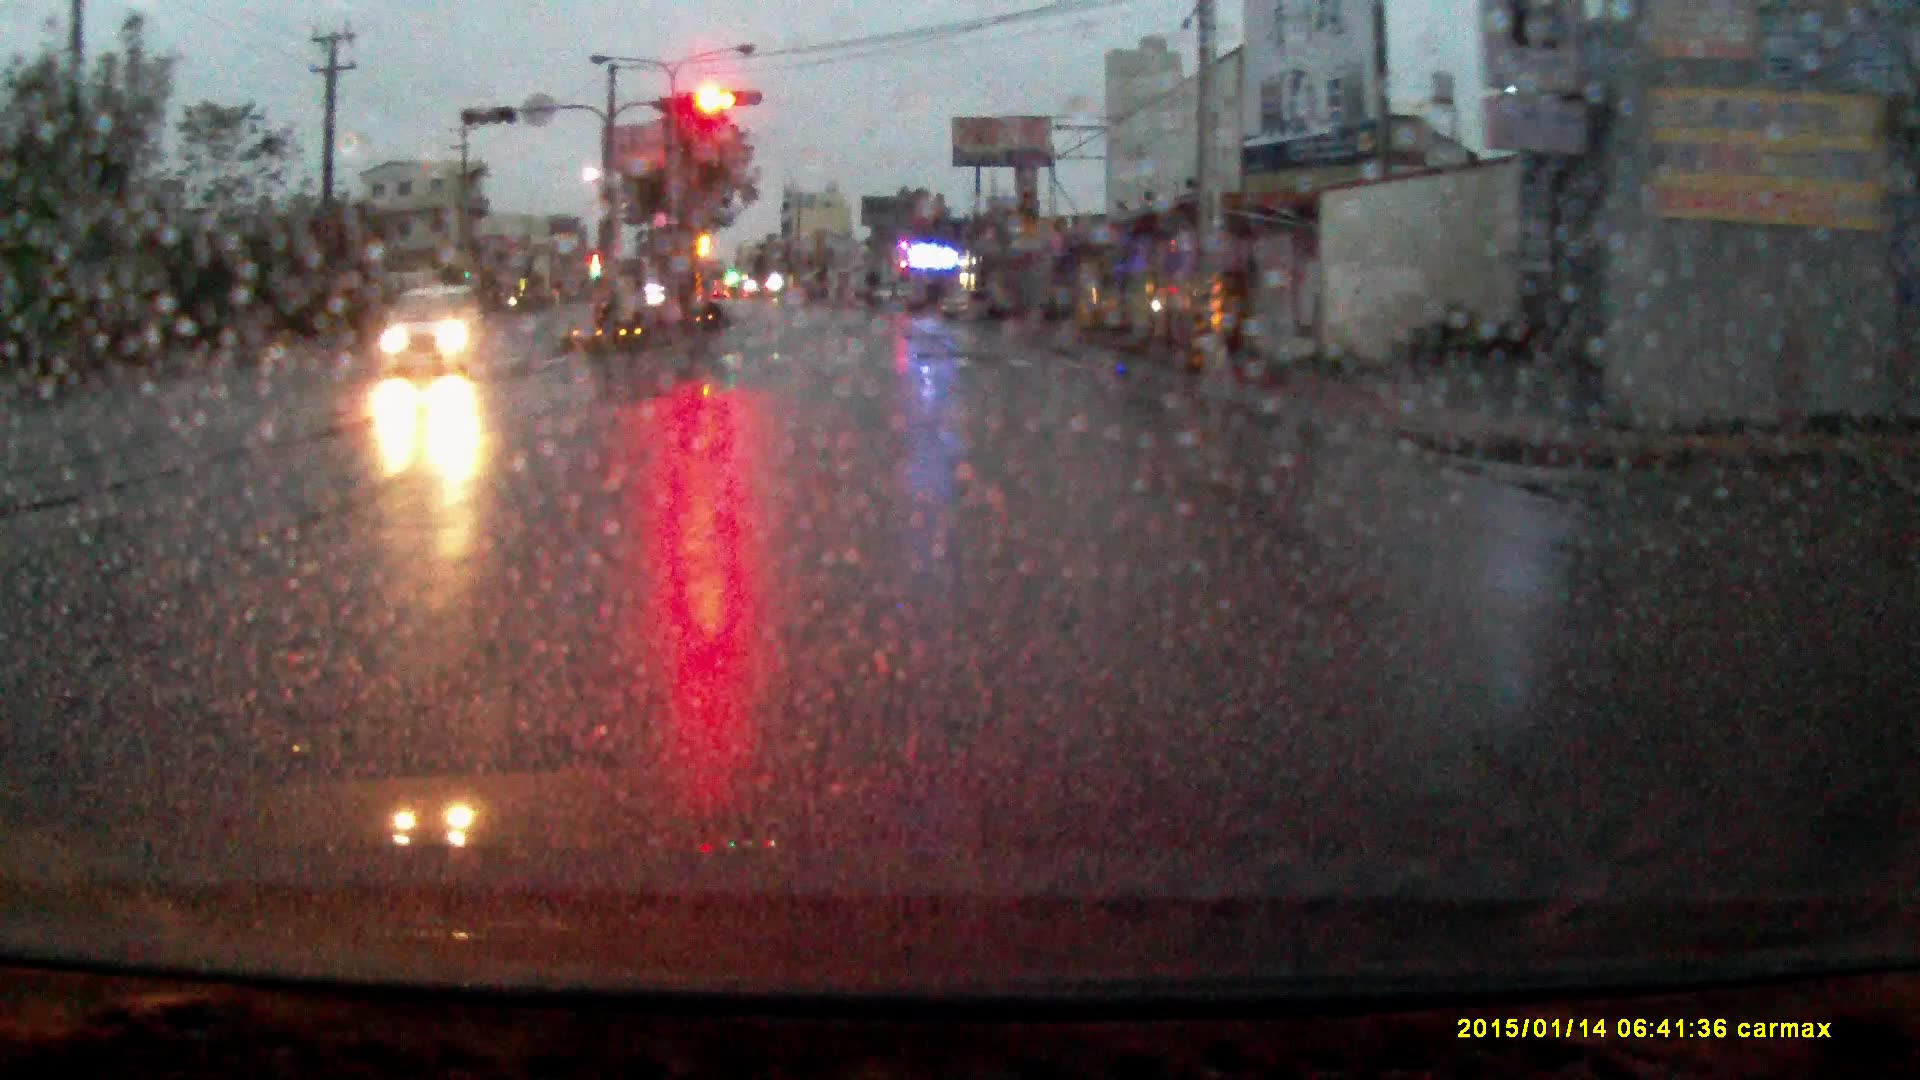vehicle: (382, 286, 488, 375)
